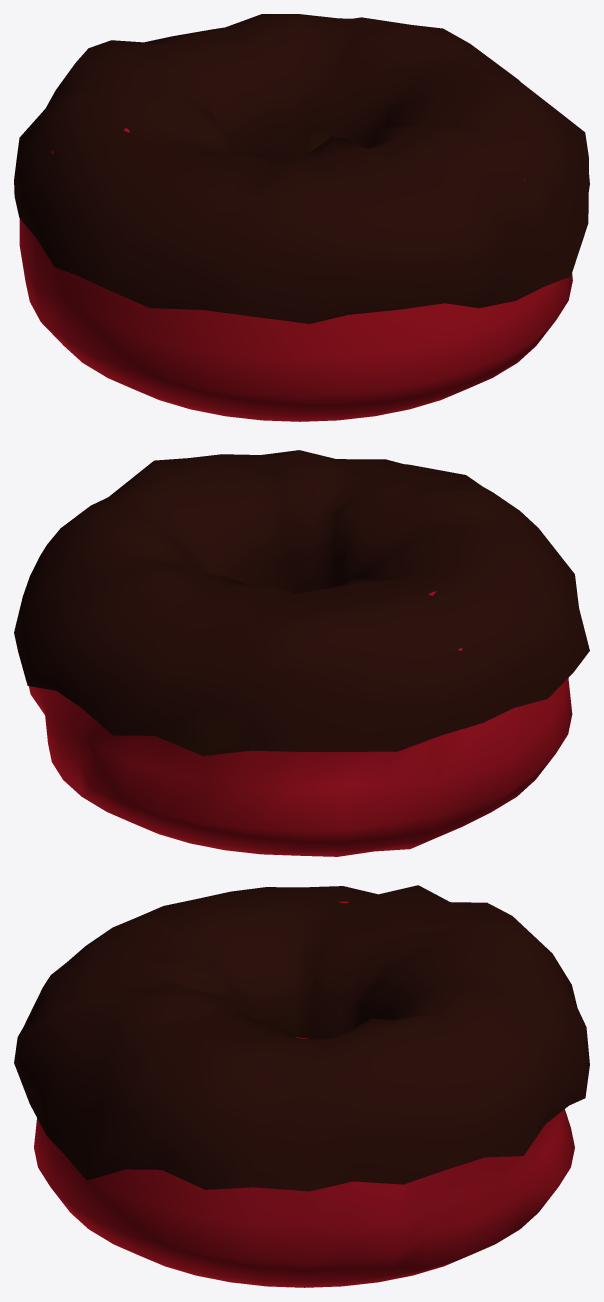
File: Donut.glb
3 renders of one model, top to bottom at view 1: azimuth 30°, elevation 25°; view 2: azimuth 150°, elevation 25°; view 3: azimuth 270°, elevation 25°, orthographic.
Parts seen in each view (by area): view 1: Torus.001, Torus; view 2: Torus.001, Torus; view 3: Torus.001, Torus.
Part boxes in pixels (bbox=[...]): Torus.001: bbox=[14, 14, 589, 323]; Torus: bbox=[19, 128, 572, 421]; Torus.001: bbox=[14, 450, 589, 755]; Torus: bbox=[29, 591, 572, 856]; Torus.001: bbox=[14, 885, 589, 1191]; Torus: bbox=[34, 901, 574, 1287].
Bounding box in the file's own units: 0.6726 × 0.3126 × 0.6664.
